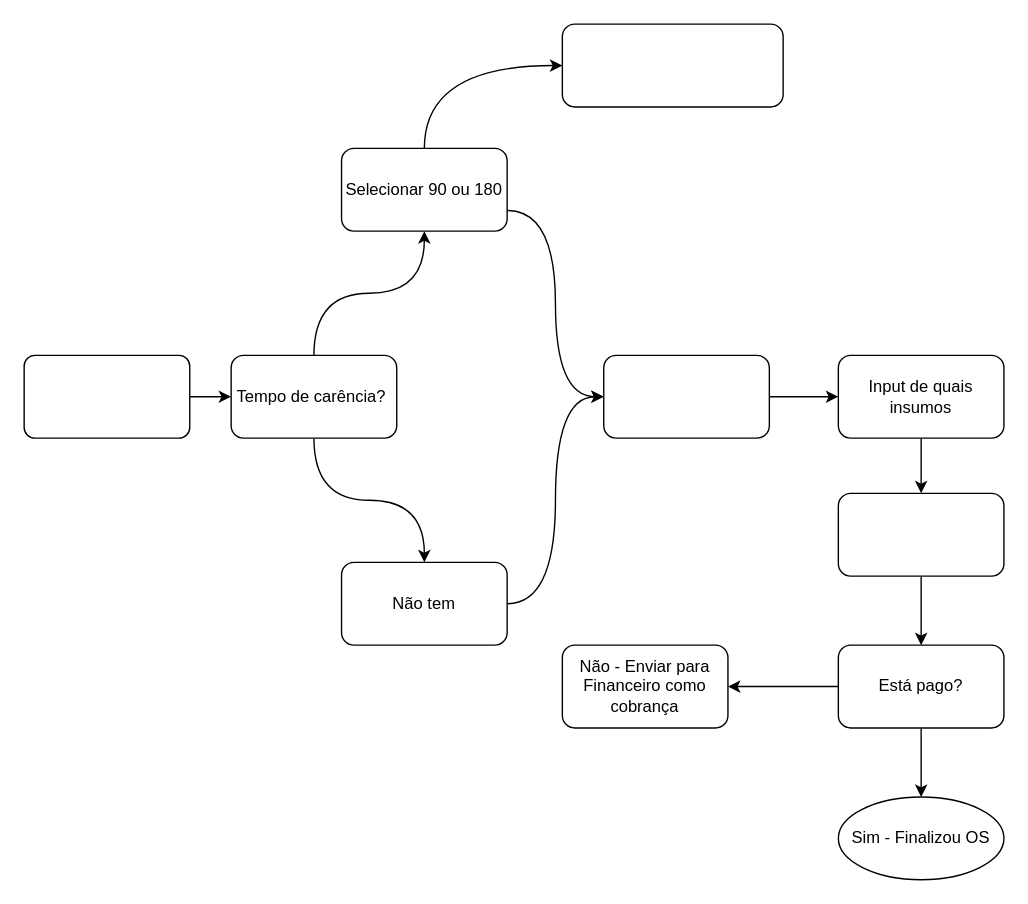
Some shapes in this 1028 by 904 pixel diagram are drawn without their labels. Each missing label, with the box of its shape:
Fazer a contagem de dias pas proximo, faltando 5 dias notificar: (561, 23, 783, 107)
Finalizou a OS: (23, 354, 190, 438)
Serviço teve insumos?: (602, 354, 769, 438)
Valor total: (837, 492, 1004, 576)
